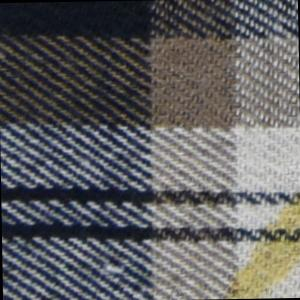Stain: (219, 190, 300, 299)
